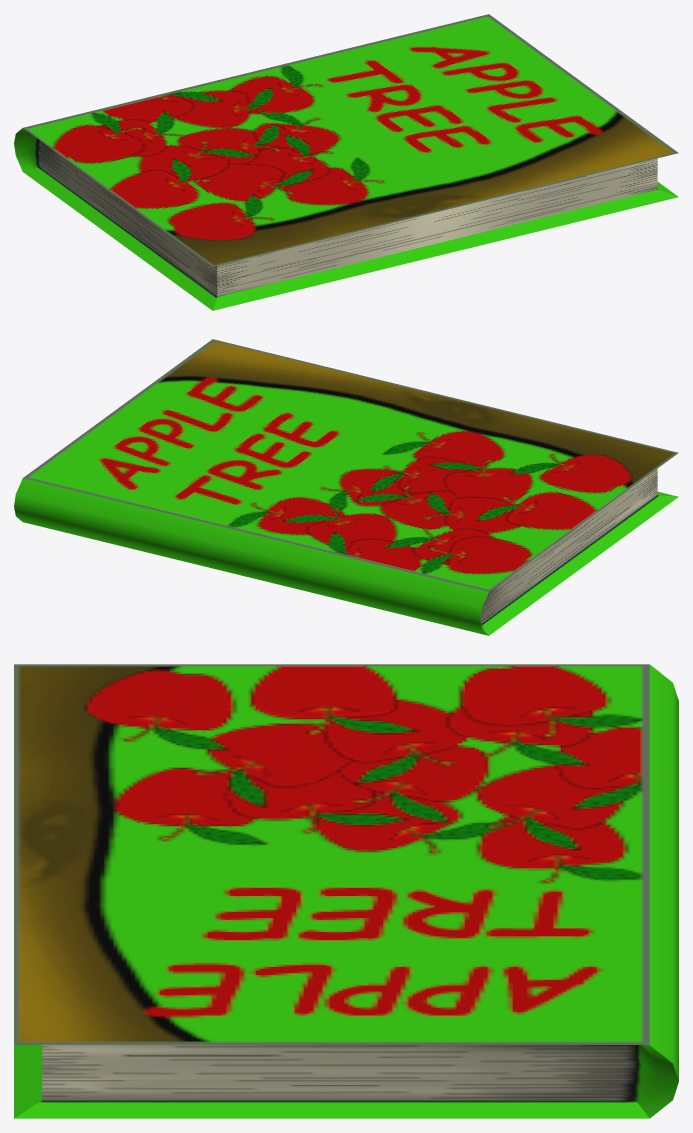
Rendered from Book1.FBX.
3 views of the same model, one above another, from view 1: azimuth 30°, elevation 25°; view 2: azimuth 150°, elevation 25°; view 3: azimuth 270°, elevation 25° (orthographic). The views are drawn at different scales.
Visible parts, largest first — view 1: RoadKillOut003; view 2: RoadKillOut003; view 3: RoadKillOut003.
Boxes of the visible parts, x1=… form: RoadKillOut003: x1=14, y1=14, x2=678, y2=310; RoadKillOut003: x1=14, y1=339, x2=678, y2=635; RoadKillOut003: x1=14, y1=664, x2=678, y2=1118.
Size of the model in its own units: 38.95 by 3.51 by 28.75.
1 material, 1 textured.
